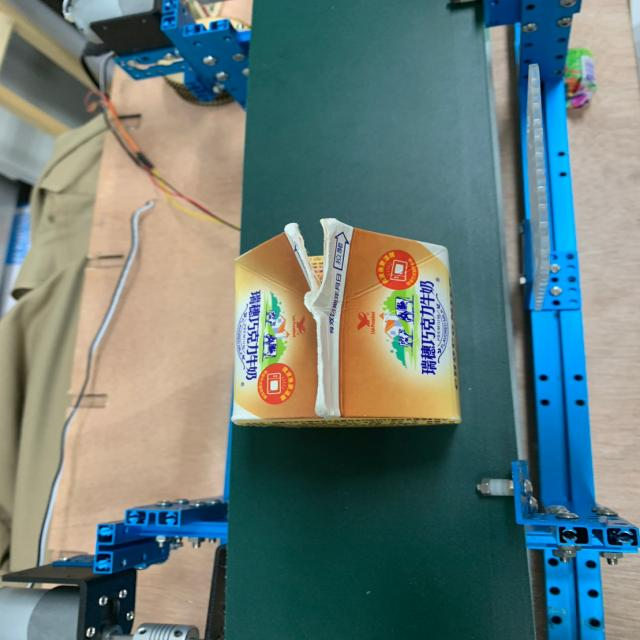non_white_jug: (211, 208, 481, 447)
